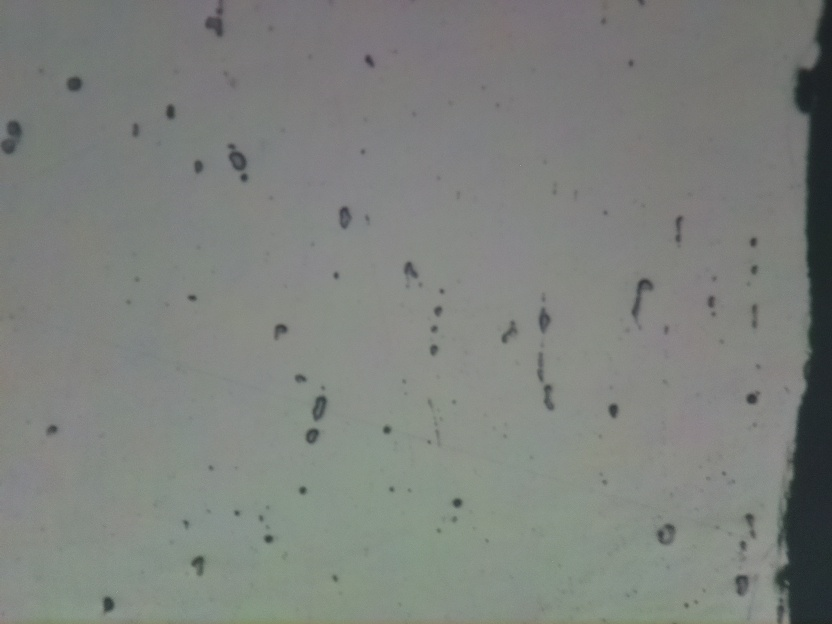crack: (775, 0, 832, 624)
